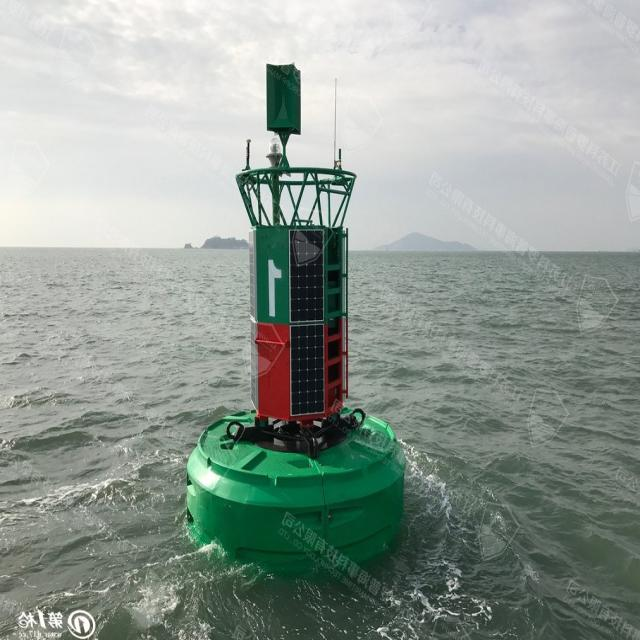buoy: (176, 52, 408, 566)
